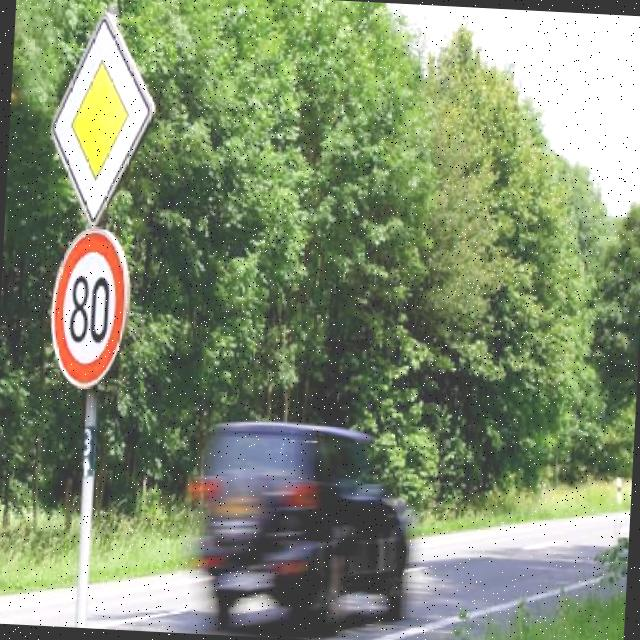Ograniczenie predkosci do 80: (46, 224, 135, 394)
